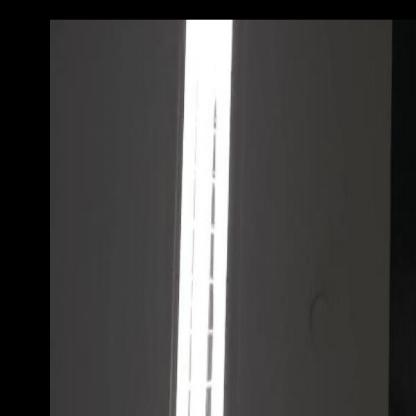light_on: (149, 0, 257, 415)
